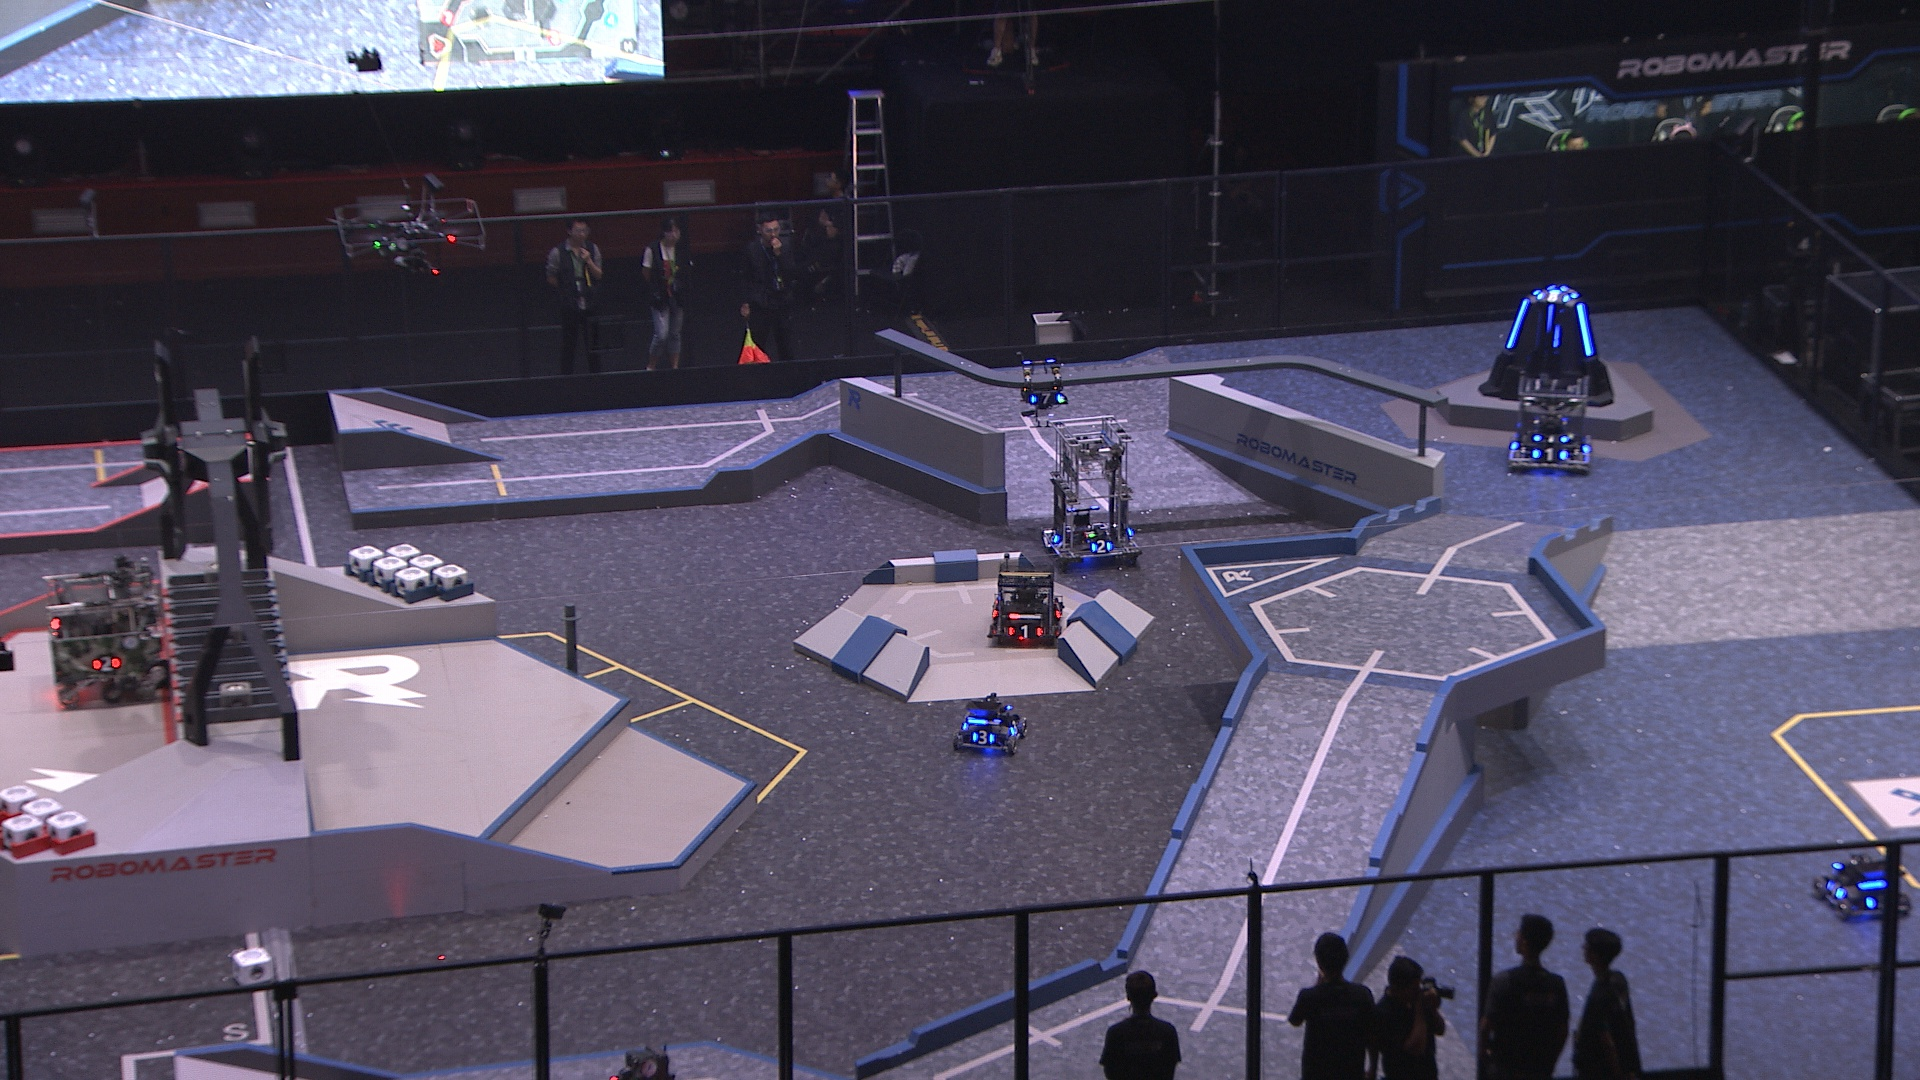armor: (1501, 295, 1532, 348), (1575, 299, 1596, 357), (1527, 444, 1569, 463), (1822, 877, 1849, 903), (1006, 622, 1044, 640), (90, 654, 123, 673), (1534, 289, 1572, 305), (1030, 390, 1065, 406), (1528, 431, 1571, 444), (1865, 889, 1887, 913), (1088, 537, 1114, 555), (971, 728, 996, 745), (1548, 323, 1564, 349), (988, 597, 1005, 618), (1545, 302, 1556, 335), (1563, 282, 1580, 301), (1007, 717, 1025, 736), (1044, 526, 1060, 545), (1054, 595, 1065, 618)
base: (1480, 285, 1617, 409)
car: (41, 555, 171, 708), (1040, 411, 1145, 575), (1503, 368, 1596, 472), (984, 553, 1067, 650), (1812, 849, 1912, 924), (949, 688, 1029, 760)
watcher: (1013, 347, 1069, 431)
